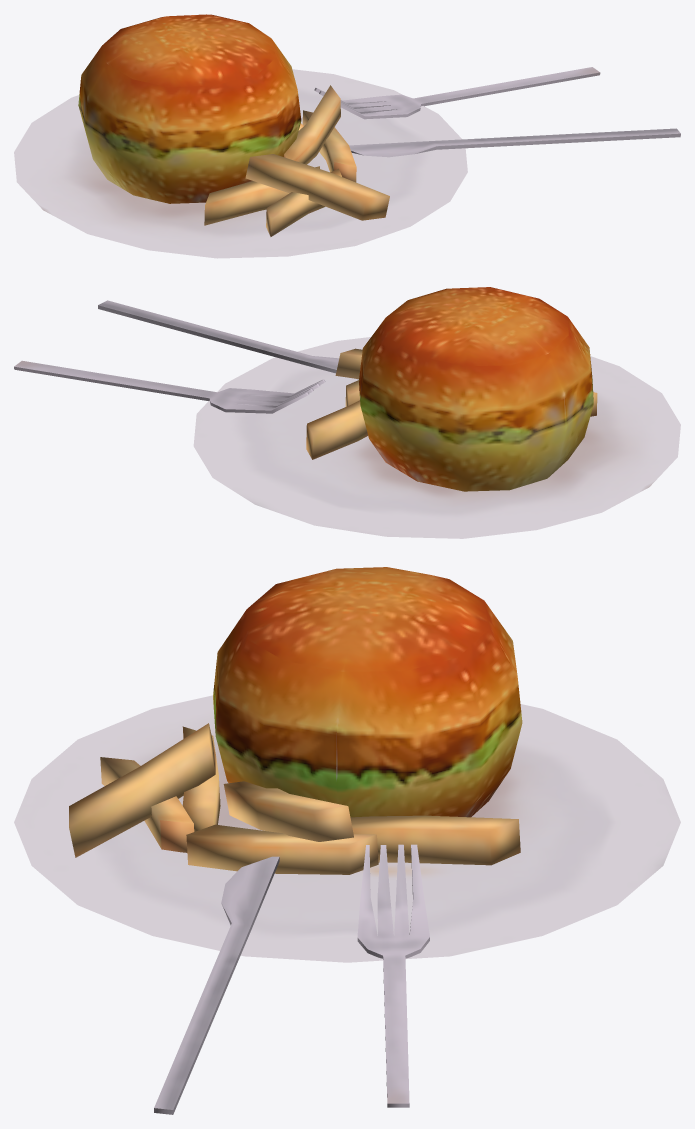
File: KaFeiTing_01_hanbao_01_UV2.FBX
3 renders of one model, top to bottom at view 1: azimuth 30°, elevation 25°; view 2: azimuth 150°, elevation 25°; view 3: azimuth 270°, elevation 25°, orthographic. The views are drawn at different scales.
Visible parts, largest first — view 1: KaFeiTing_01_hanbao_01; view 2: KaFeiTing_01_hanbao_01; view 3: KaFeiTing_01_hanbao_01.
Part boxes in pixels (x1,y1,x2,y2): KaFeiTing_01_hanbao_01: (14,14,680,258); KaFeiTing_01_hanbao_01: (14,287,680,538); KaFeiTing_01_hanbao_01: (14,567,680,1114).
Bounding box in the file's own units: 186 × 47.15 × 129.
